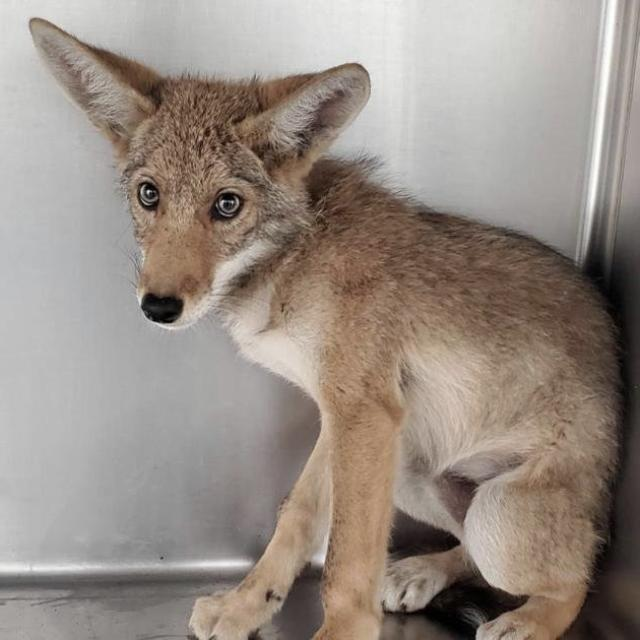coyote: (30, 18, 620, 639)
